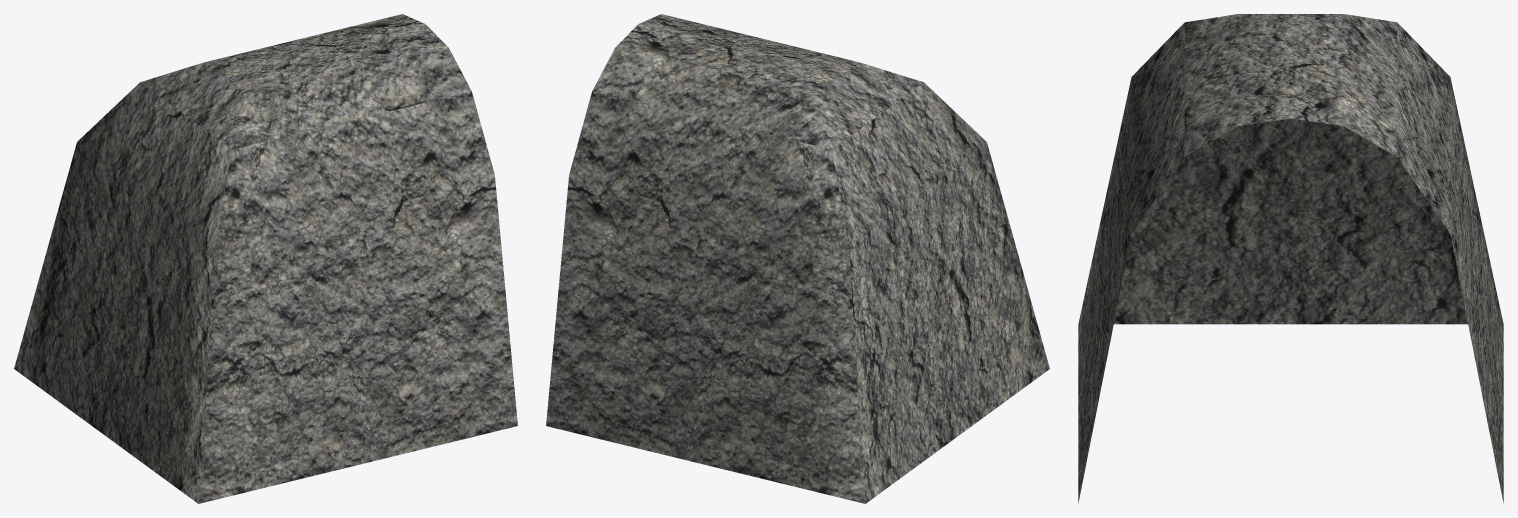
File: Stone1a.obj
3 renders of one model, left to right at view 1: azimuth 30°, elevation 25°; view 2: azimuth 150°, elevation 25°; view 3: azimuth 270°, elevation 25°, orthographic. The views are drawn at different scales.
Parts seen in each view (by area): view 1: Grid_Grid.010_Grid_Grid.032; view 2: Grid_Grid.010_Grid_Grid.032; view 3: Grid_Grid.010_Grid_Grid.032.
Boxes of the visible parts, left/top/right/bottom form: Grid_Grid.010_Grid_Grid.032: left=14, top=14, right=517, bottom=503; Grid_Grid.010_Grid_Grid.032: left=546, top=14, right=1049, bottom=503; Grid_Grid.010_Grid_Grid.032: left=1078, top=14, right=1503, bottom=502.
Bounding box in the file's own units: 1 × 1 × 1.
